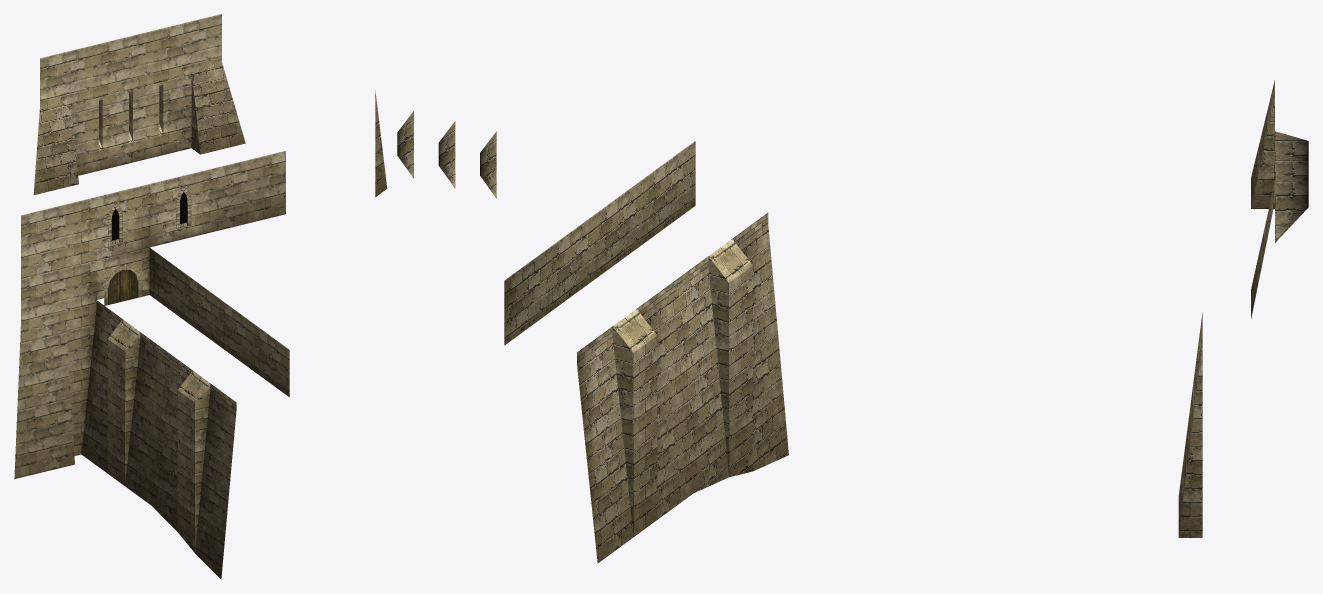
File: Mission12_ExterioRWalls01B_A.glb
3 renders of one model, left to right at view 1: azimuth 30°, elevation 25°; view 2: azimuth 150°, elevation 25°; view 3: azimuth 270°, elevation 25°, orthographic. The views are drawn at different scales.
Parts seen in each view (by area): view 1: MISSION12_EXTERIORWALLS01B_A; view 2: MISSION12_EXTERIORWALLS01B_A; view 3: MISSION12_EXTERIORWALLS01B_A.
Part boxes in pixels (x1,y1,x2,y2): MISSION12_EXTERIORWALLS01B_A: (14, 14, 289, 579); MISSION12_EXTERIORWALLS01B_A: (375, 90, 788, 563); MISSION12_EXTERIORWALLS01B_A: (1178, 80, 1308, 537).
Bounding box in the file's own units: 18.5 × 25.46 × 20.4.
4 materials, 4 textured.
